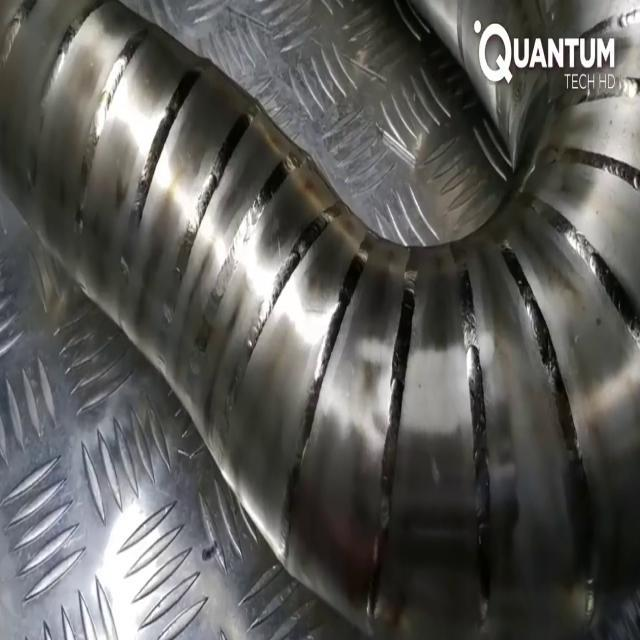Good Weld: (190, 164, 351, 498), (506, 250, 606, 585), (446, 244, 498, 588), (368, 252, 416, 598), (70, 61, 118, 202), (125, 96, 172, 240), (25, 36, 63, 180)
